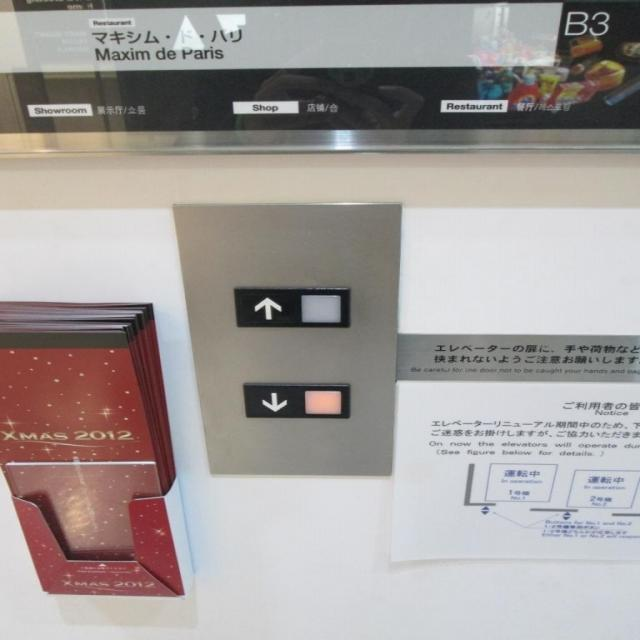down: (238, 380, 354, 421)
up: (229, 283, 353, 329)
